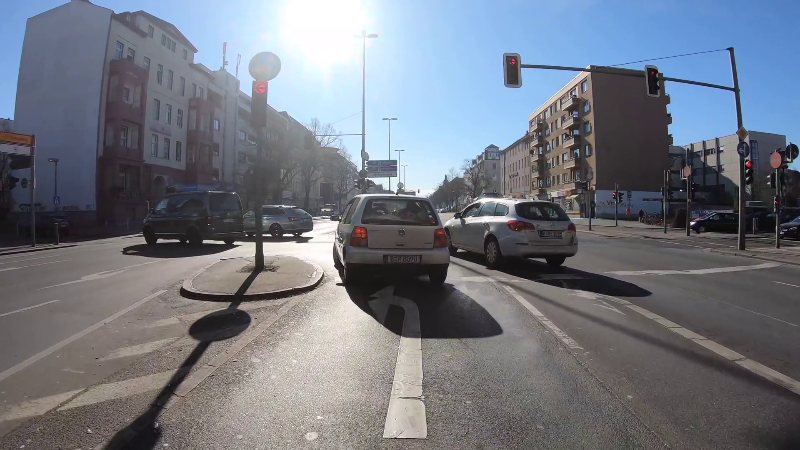Plate: (382, 253, 421, 264), (540, 229, 562, 237)
